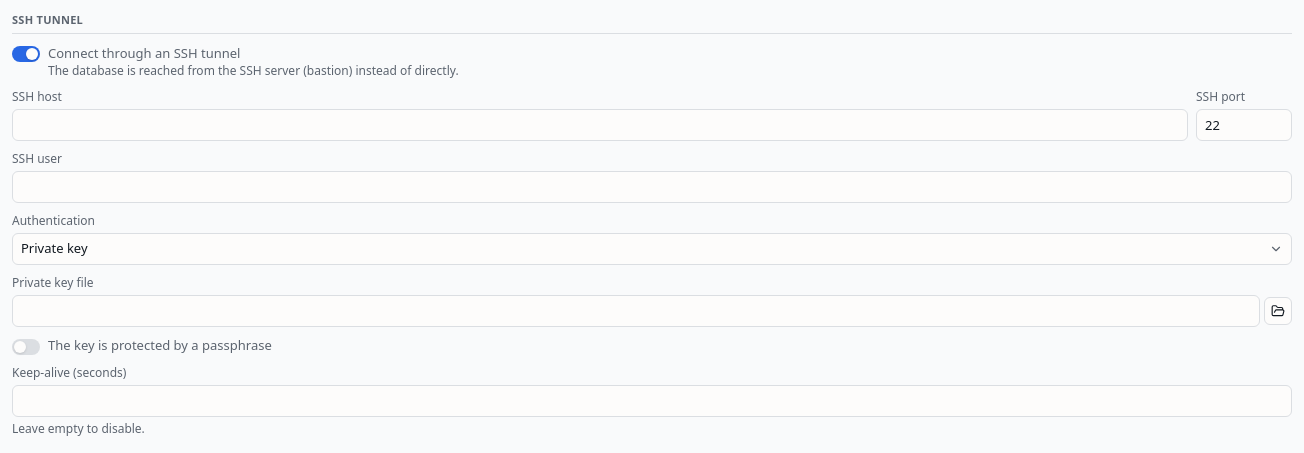
Scenario: SshSection › browses for the key file
The image size is (1304, 453).
Click the button named "Browse for the private key file". click: click(1278, 311)
box: [1264, 297, 1292, 325]
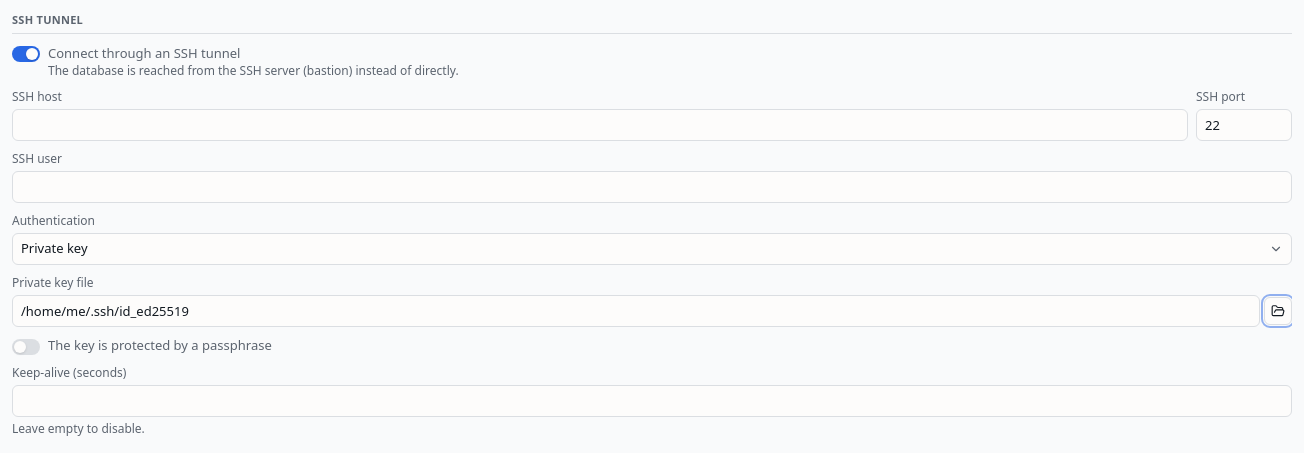
expect the field showing "/home/me/.ssh/id_ed25519" is shown: met, box [12, 295, 1260, 327]
